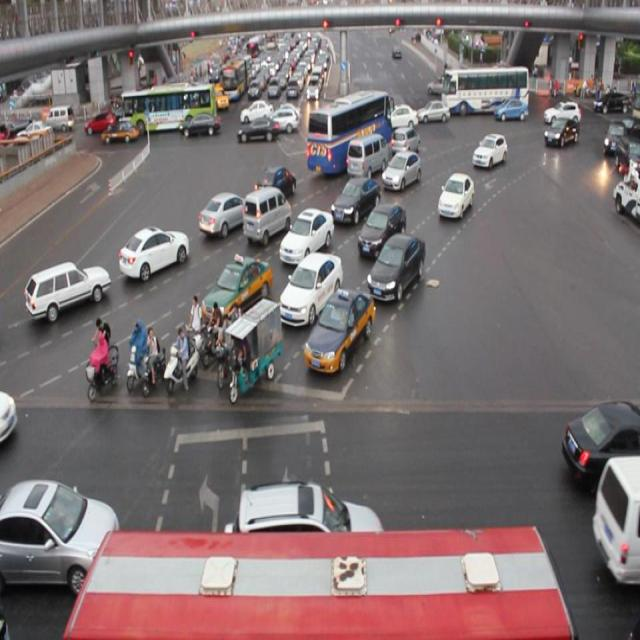car: (1, 478, 119, 590), (229, 482, 384, 552), (561, 398, 640, 487), (302, 289, 374, 376), (200, 252, 273, 337), (25, 261, 109, 323), (278, 250, 343, 326), (366, 232, 425, 302), (119, 226, 190, 278), (279, 209, 334, 264), (356, 202, 406, 254), (329, 176, 380, 226), (199, 191, 254, 232), (435, 171, 472, 220), (381, 149, 422, 191), (253, 166, 297, 205), (471, 132, 507, 168), (542, 115, 578, 149), (391, 127, 421, 156)
truck: (590, 454, 640, 596), (243, 185, 291, 242), (339, 138, 382, 183)
van: (64, 526, 573, 640), (306, 90, 392, 174)
